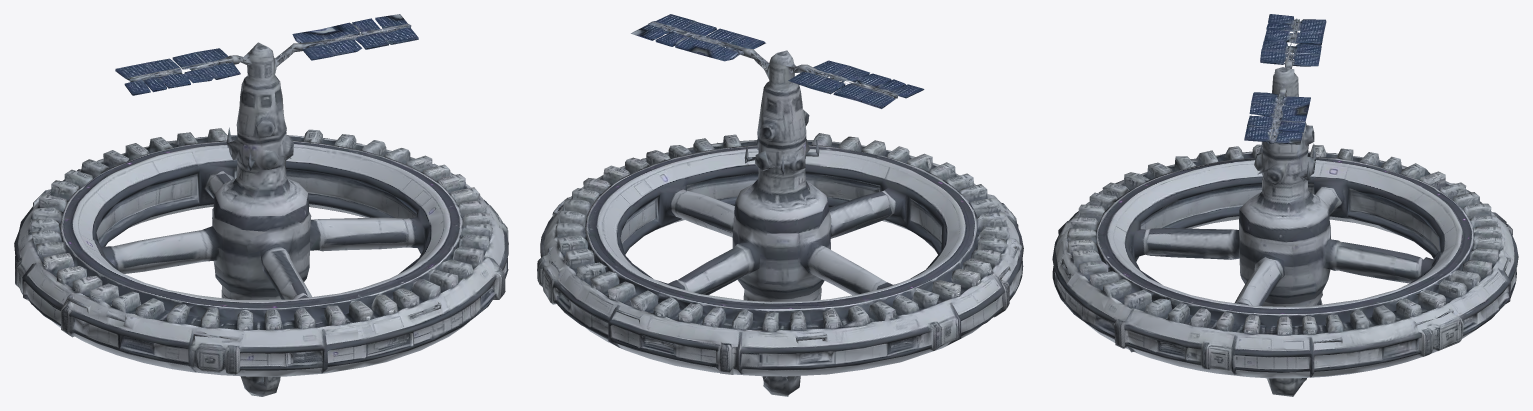
The model's file is station-exterior.glb.
The picture shows the model from 3 angles, left to right: view 1: azimuth 30°, elevation 25°; view 2: azimuth 150°, elevation 25°; view 3: azimuth 270°, elevation 25°; orthographic projection. The views are drawn at different scales.
Parts seen in each view (by area): view 1: tripo_node_b09b7303-f20d-43ce-b05d-179574d842c6; view 2: tripo_node_b09b7303-f20d-43ce-b05d-179574d842c6; view 3: tripo_node_b09b7303-f20d-43ce-b05d-179574d842c6.
Boxes of the visible parts, x1,y1,x2,y2 form: tripo_node_b09b7303-f20d-43ce-b05d-179574d842c6: (14,14,508,396); tripo_node_b09b7303-f20d-43ce-b05d-179574d842c6: (537,14,1023,396); tripo_node_b09b7303-f20d-43ce-b05d-179574d842c6: (1052,14,1518,396).
Bounding box in the file's own units: 0.9791 × 0.7567 × 0.9795.
Materials: 1 (1 with a texture image).
